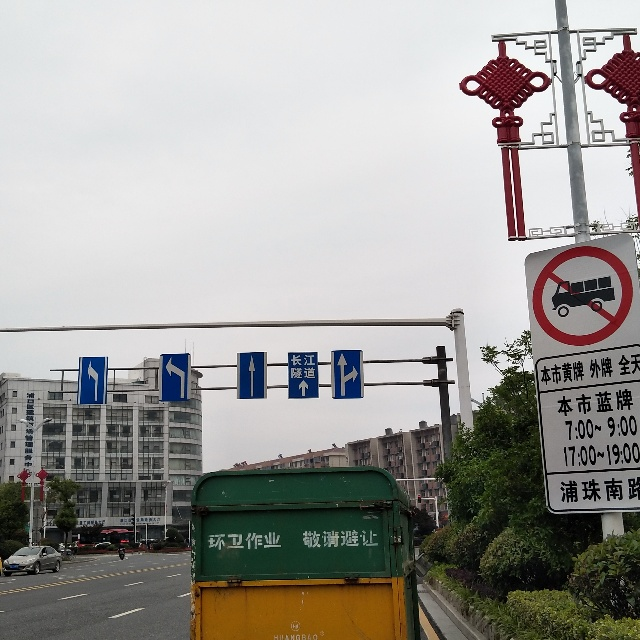left: (78, 358, 105, 409), (165, 358, 190, 402)
straight: (241, 354, 263, 394)
